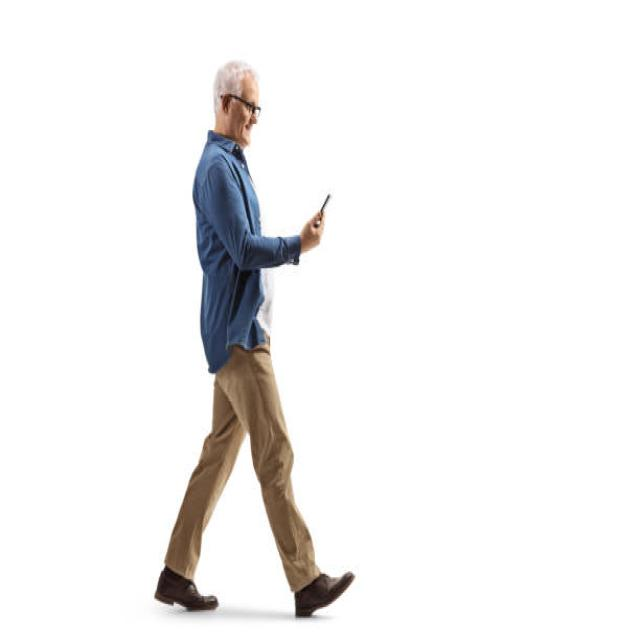Person: (155, 59, 355, 617)
